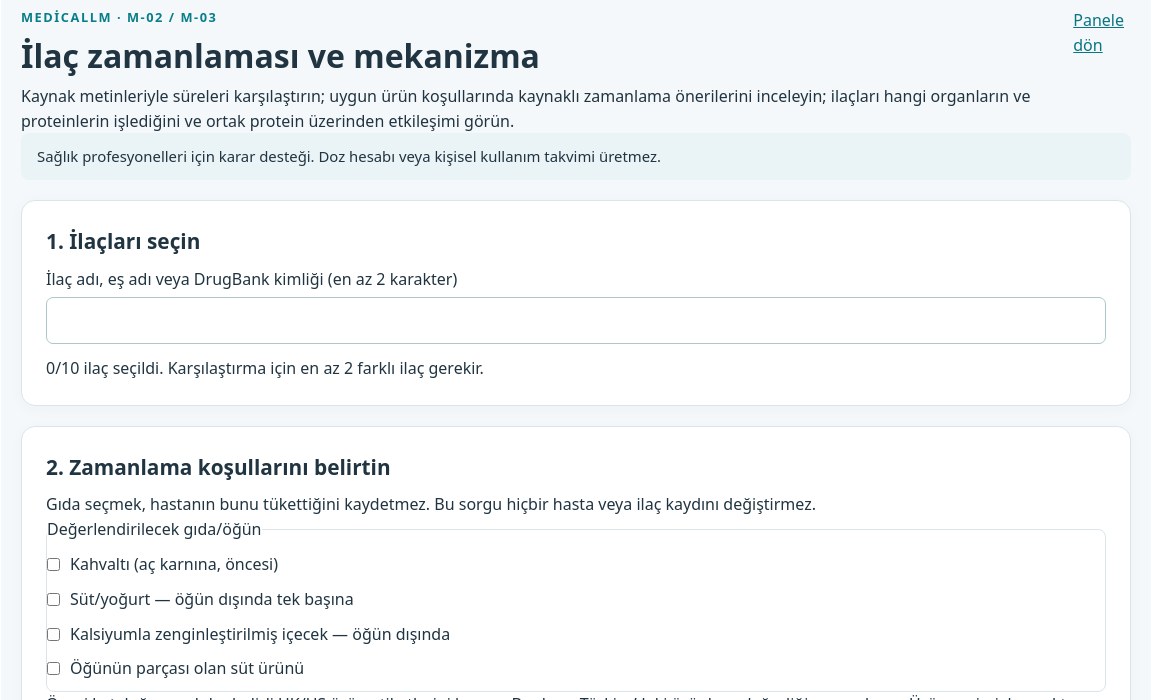
Test: M02 complete screen › discards a late response after selection changes
In the field labelled "İlaç adı, eş adı veya DrugBank kimliği (en az 2 karakter)": (576, 320) [46,297,1106,344], type "Drug"
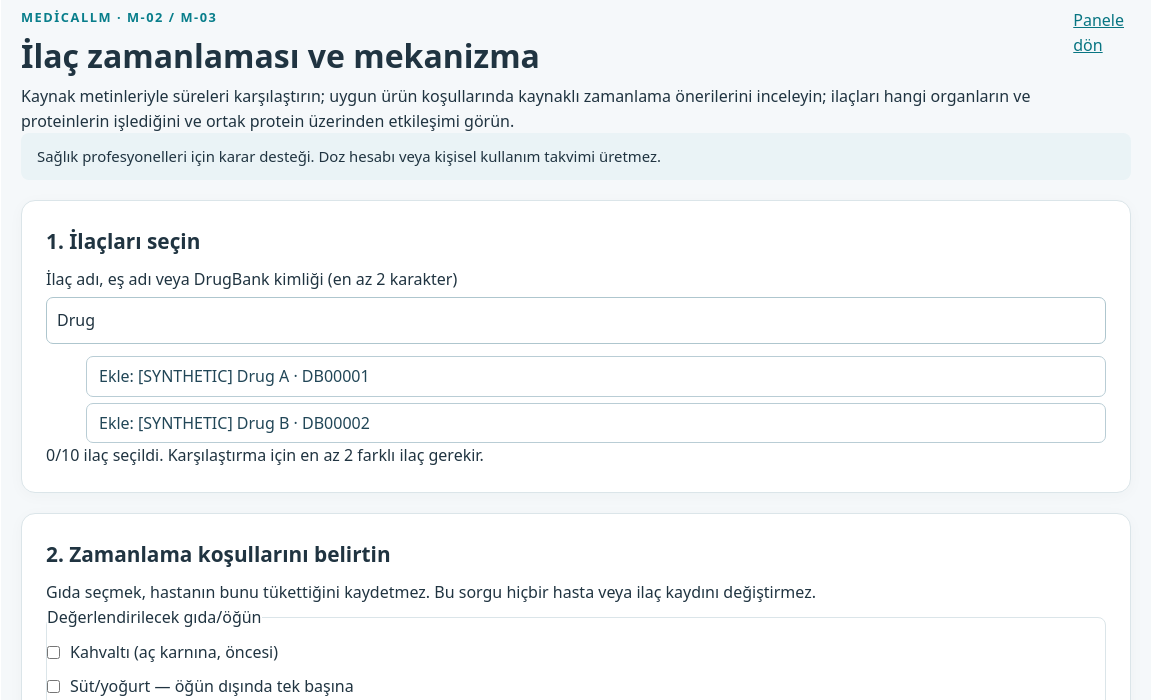
Click the button "Ekle: [SYNTHETIC] Drug A · DB00001": (119, 376) [86,356,1106,397]
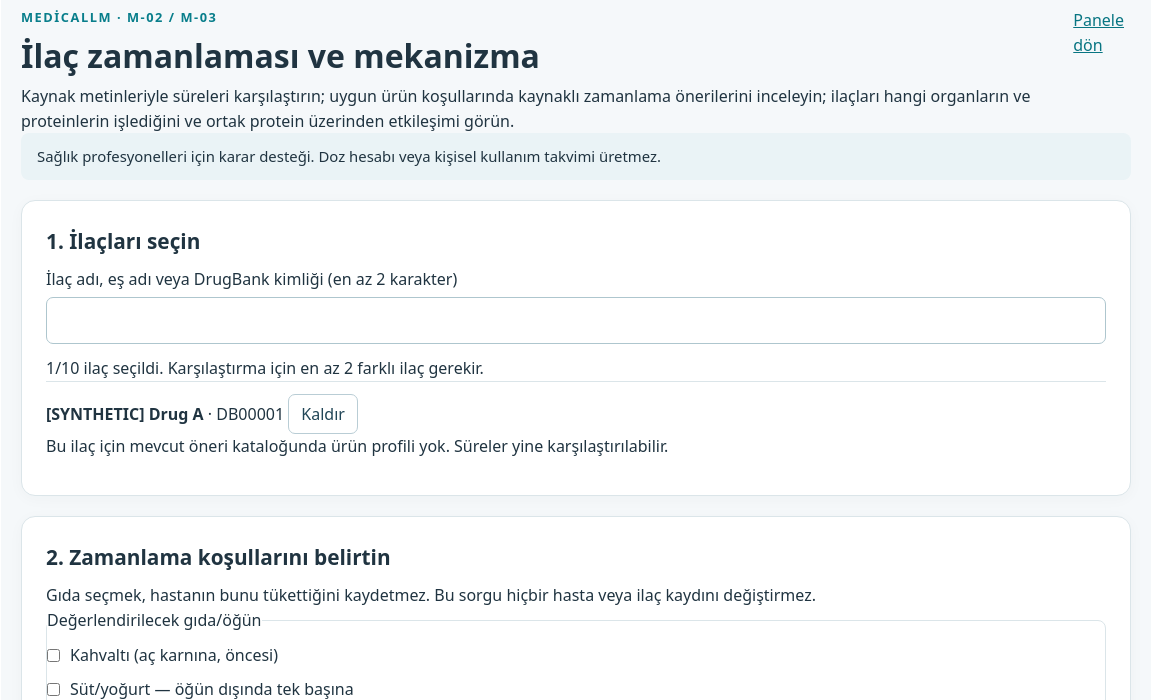
In the field labelled "İlaç adı, eş adı veya DrugBank kimliği (en az 2 karakter)": (576, 320) [46,297,1106,344], type "Drug"
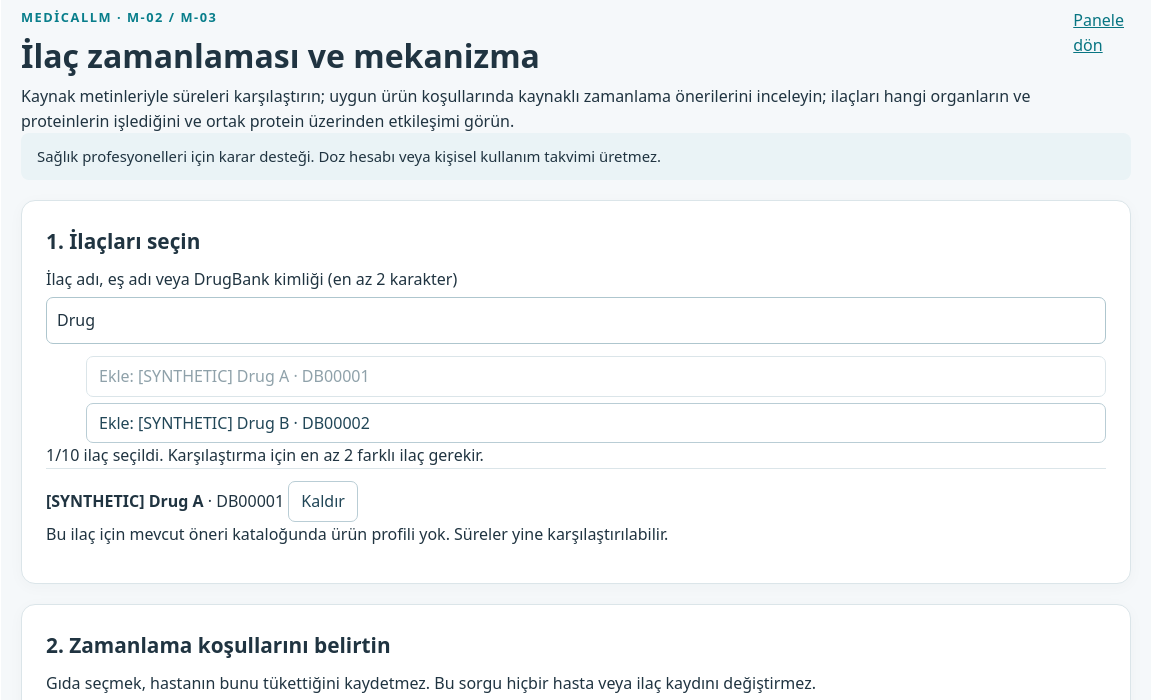
Click the button "Ekle: [SYNTHETIC] Drug B · DB00002": (119, 423) [86,403,1106,444]
(page scrolled)
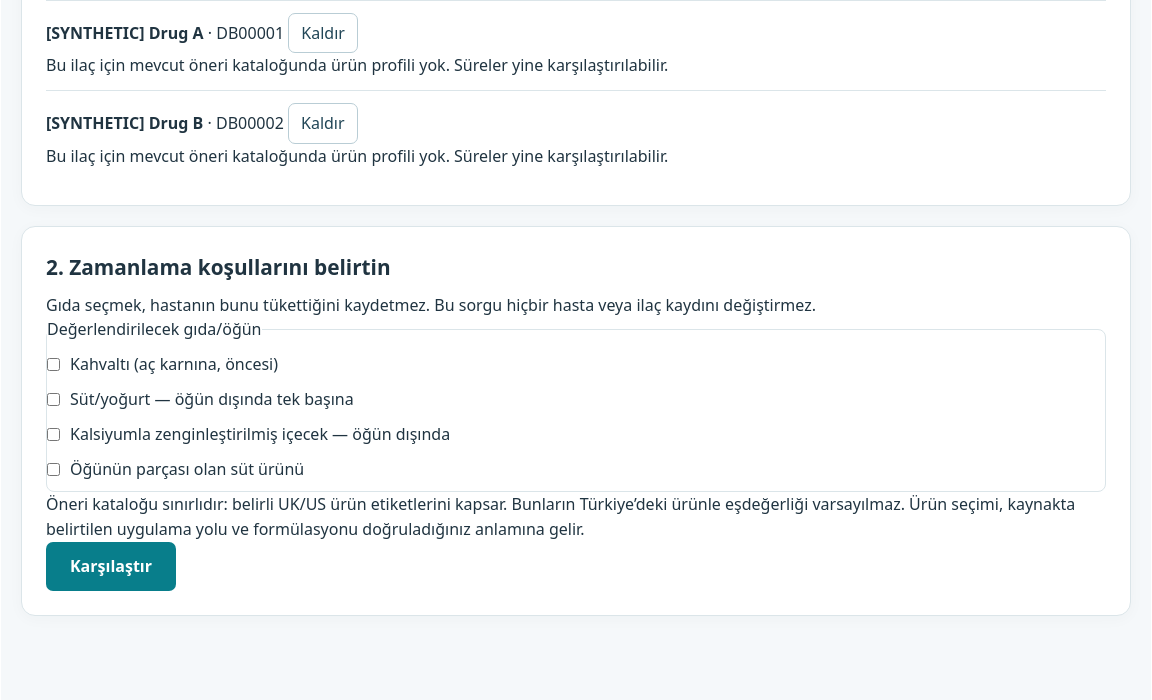
Click the button "Karşılaştır": (111, 566) [46,542,176,591]
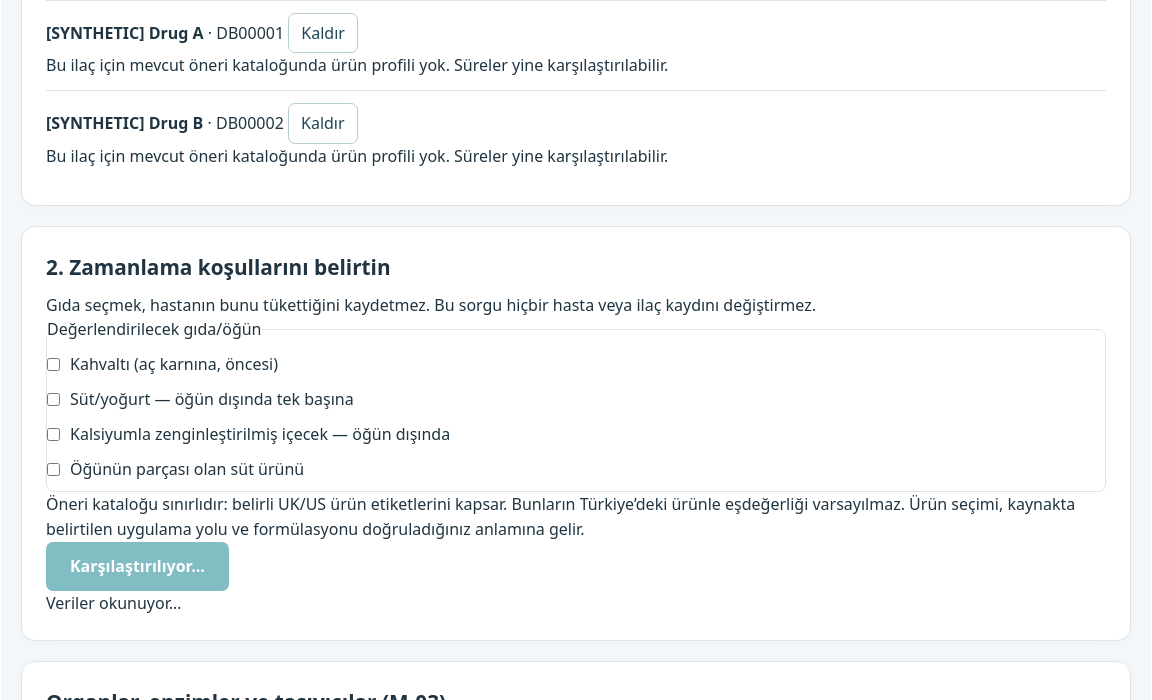
expect the text "Veriler okunuyor…" is shown: met, box [46,592,181,614]
Click the button with aria-label "[SYNTHETIC] Drug A kaldır": (323, 33) [288,13,358,54]
(page scrolled)
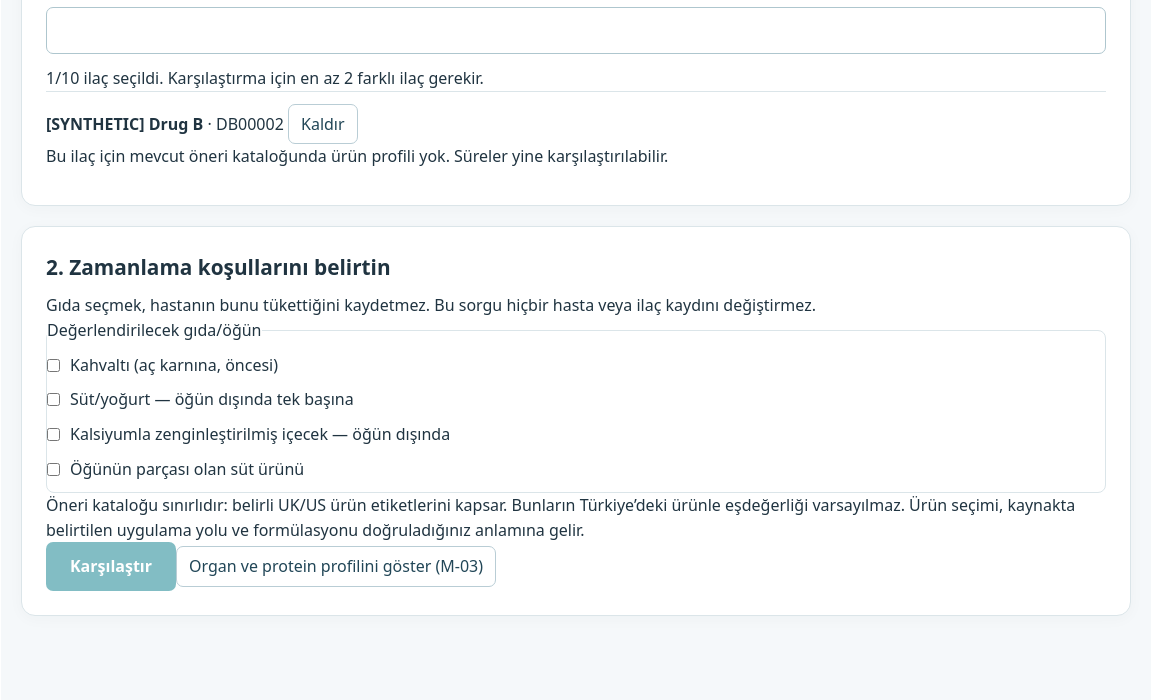
expect the text "Veriler okunuyor…" is gone: met
